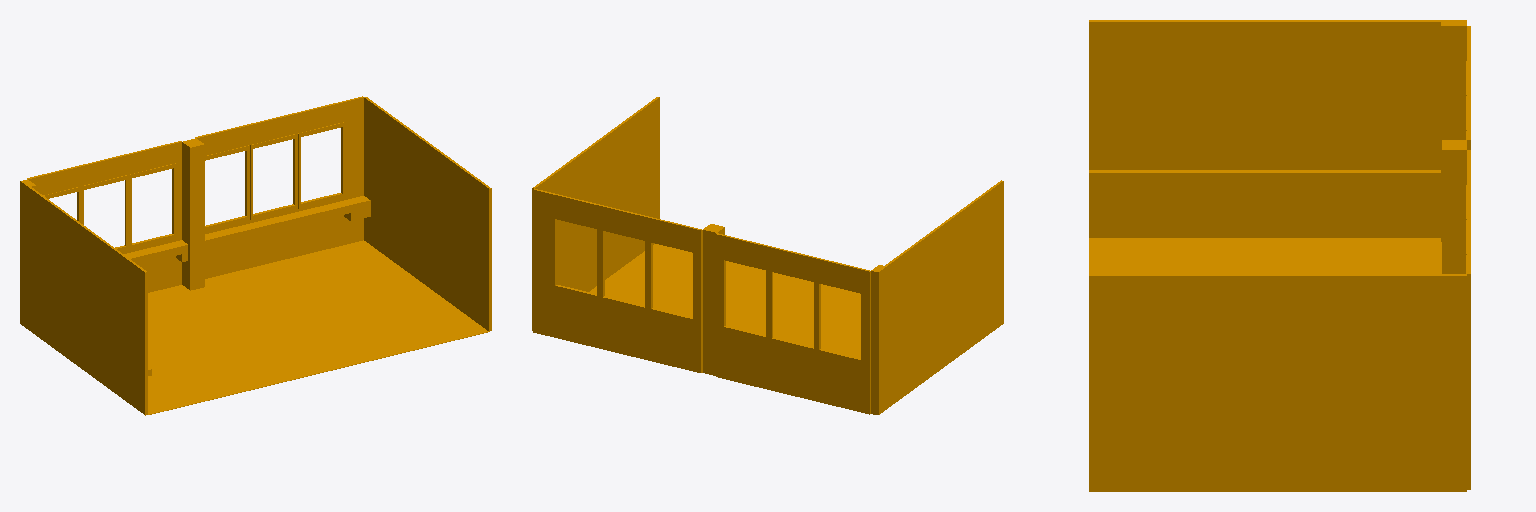
The robot description file, URDF, robot "lab":
<?xml version="1.0"?>
<robot name="lab">
  <link name="base_link">
    <visual>
      <geometry>
         <mesh filename="package://world_description/model/world.dae"/>
      </geometry>
    </visual>
    <collision>
      <geometry>
         <mesh filename="package://world_description/model/world.dae"/>
      </geometry>
    </collision>
    <inertial>
      <mass value="10"/>
      <inertia ixx="0.4" ixy="0.0" ixz="0.0" iyy="0.4" iyz="0.0" izz="0.2"/>
    </inertial>
  </link>
    <gazebo>
      <static>1</static>
    </gazebo>
  <gazebo reference="base_link">
    <mu>0.09</mu>
    <mu2>0.09</mu2>
    <slip1>0</slip1>
    <slip2>0</slip2>
  </gazebo>
</robot>

--- What the picture shows (computed from the rendered views, not written in the file) ---
The picture shows the robot from 3 angles, left to right: view 1: azimuth 30°, elevation 25°; view 2: azimuth 150°, elevation 25°; view 3: azimuth 270°, elevation 25°; orthographic projection.
Model lab with 1 links and 0 joints (none), rooted at base_link, posed every joint at zero.
Visible links, largest first — view 1: base_link; view 2: base_link; view 3: base_link.
Boxes of the visible links, left/top/right/bottom form: base_link: left=20, top=96, right=491, bottom=415; base_link: left=532, top=97, right=1003, bottom=414; base_link: left=1089, top=20, right=1470, bottom=491.
Size in the robot's own frame: 7.51 by 4.75 by 2.98 metres.
1 mesh visuals loaded from 1 distinct referenced files (1 Collada DAE).